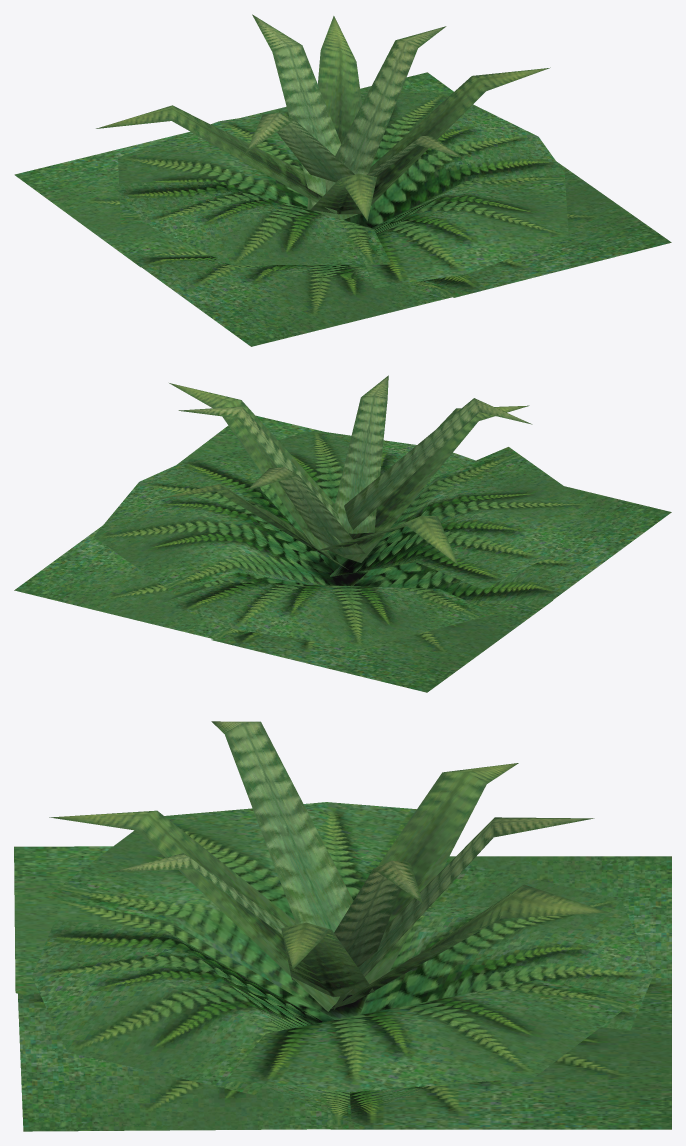
File: frst_fern_green_lg_l1.fbx
3 renders of one model, top to bottom at view 1: azimuth 30°, elevation 25°; view 2: azimuth 150°, elevation 25°; view 3: azimuth 270°, elevation 25°, orthographic. The views are drawn at different scales.
Visible parts, largest first — view 1: mesh_node; view 2: mesh_node; view 3: mesh_node.
Boxes of the visible parts, x1,y1,x2,y2 form: mesh_node: (14,14,671,346); mesh_node: (14,375,671,692); mesh_node: (14,721,671,1131).
Size of the model in its own units: 3.43 by 1.59 by 3.36.
1 material, 1 textured.
